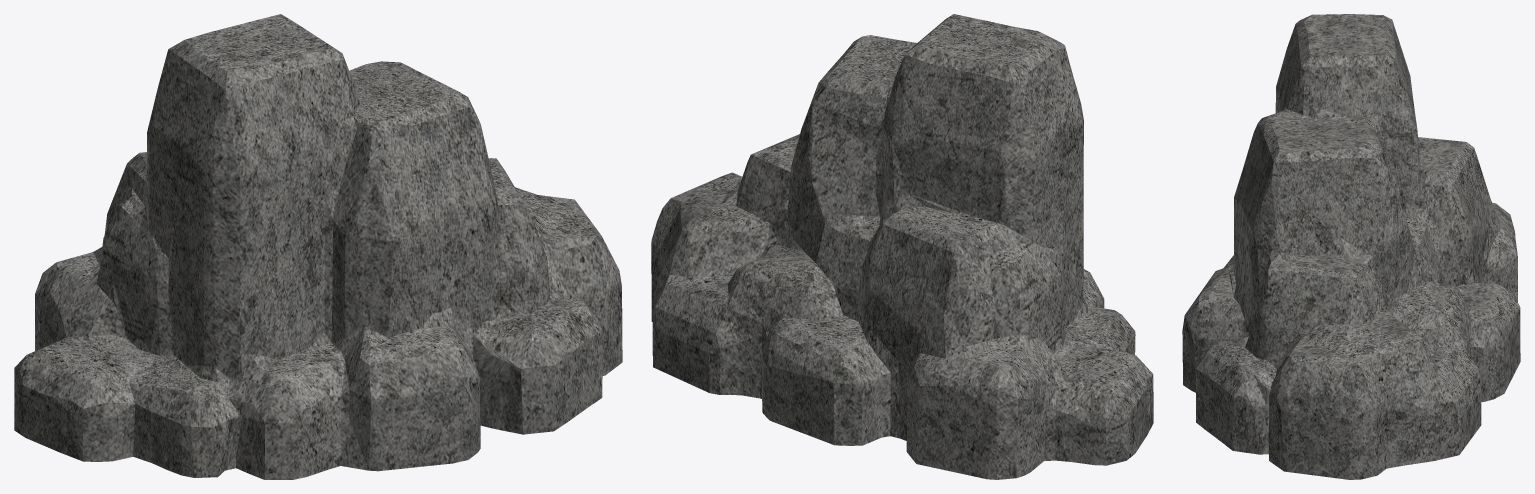
File: roccia_grande_2.fbx
3 renders of one model, left to right at view 1: azimuth 30°, elevation 25°; view 2: azimuth 150°, elevation 25°; view 3: azimuth 270°, elevation 25°, orthographic. The views are drawn at different scales.
Parts seen in each view (by area): view 1: roccia_grande_1; view 2: roccia_grande_1; view 3: roccia_grande_1.
Part boxes in pixels (x1,y1,x2,y2): roccia_grande_1: (14,14,622,479); roccia_grande_1: (651,14,1153,479); roccia_grande_1: (1182,14,1520,479).
Bounding box in the file's own units: 406 × 263 × 264.
